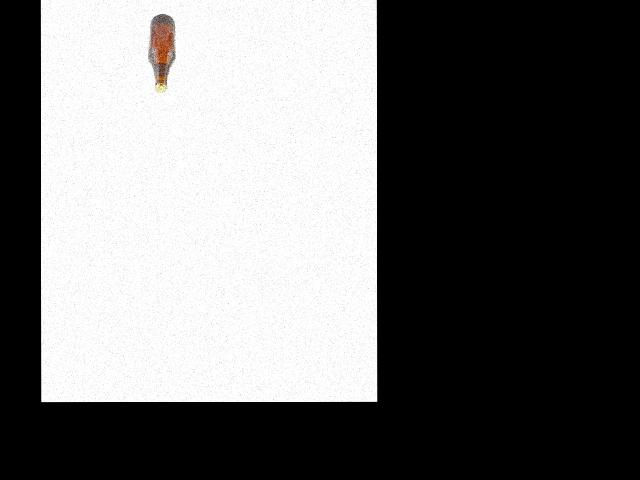beer: (149, 14, 174, 93)
